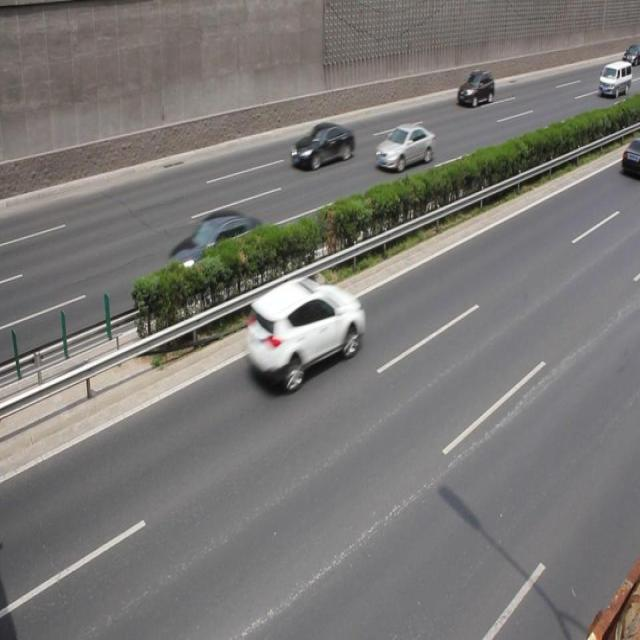car: (245, 273, 365, 388), (166, 207, 272, 294), (292, 122, 355, 174), (373, 120, 434, 172), (456, 70, 493, 108), (619, 138, 640, 174)
truck: (597, 62, 629, 94)
